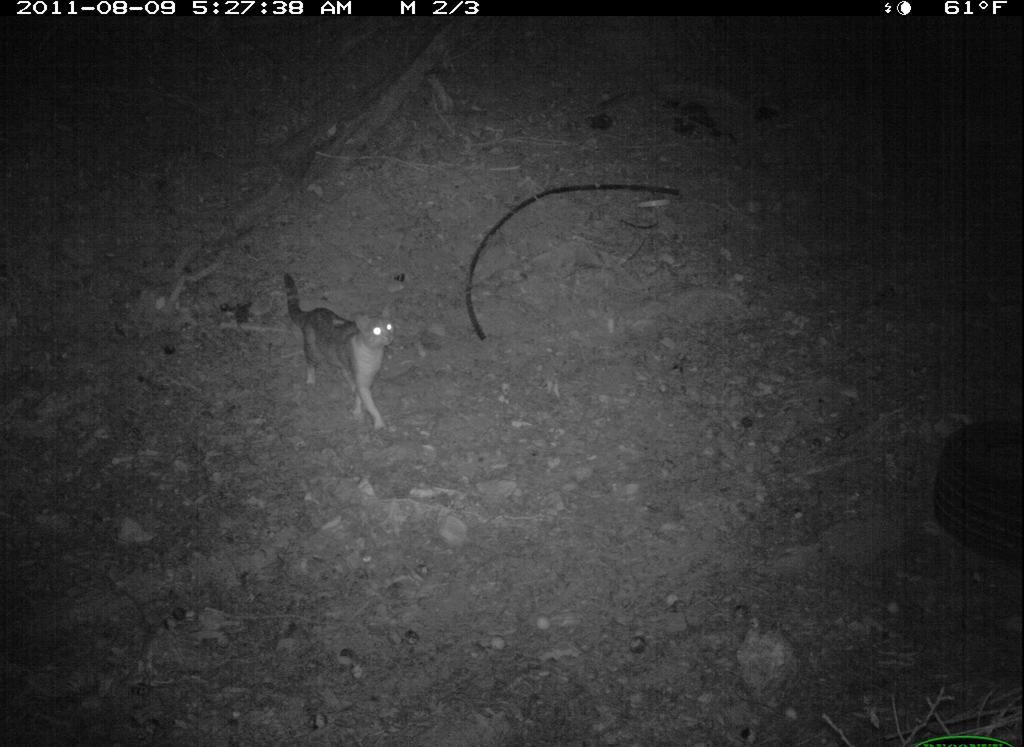cat: (277, 269, 410, 443)
